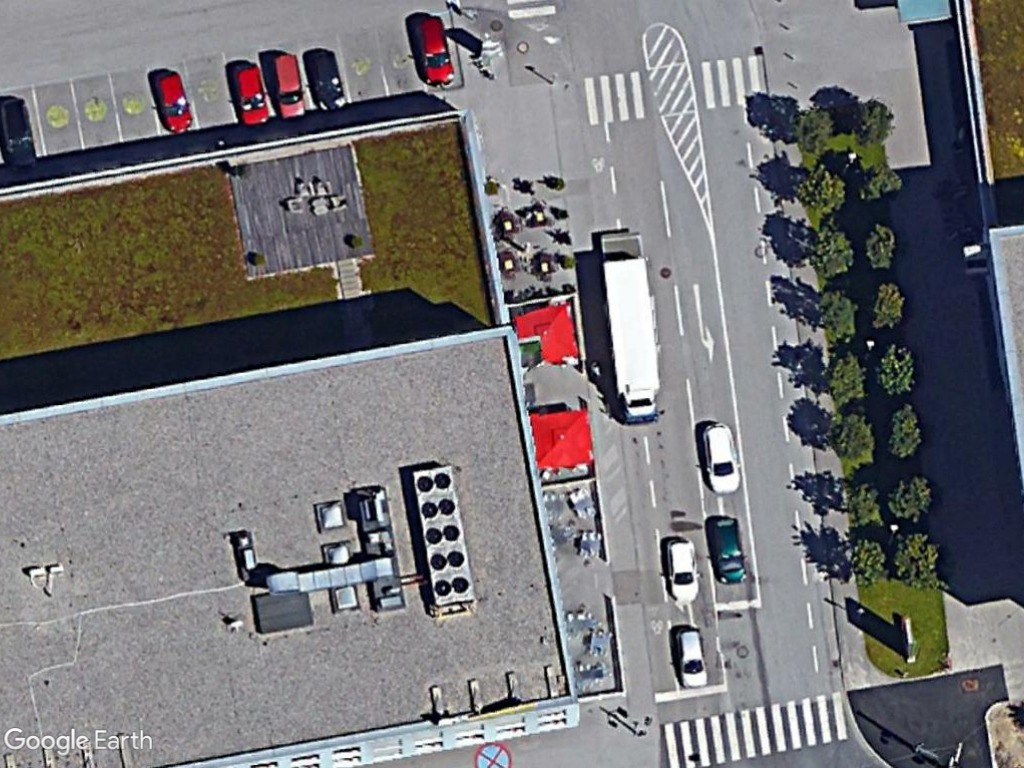car: (694, 415, 744, 499), (704, 512, 752, 591), (409, 11, 456, 91), (658, 531, 703, 610), (147, 68, 197, 139), (265, 50, 308, 123), (226, 60, 271, 128), (670, 621, 710, 695)
truck: (601, 253, 667, 430)
